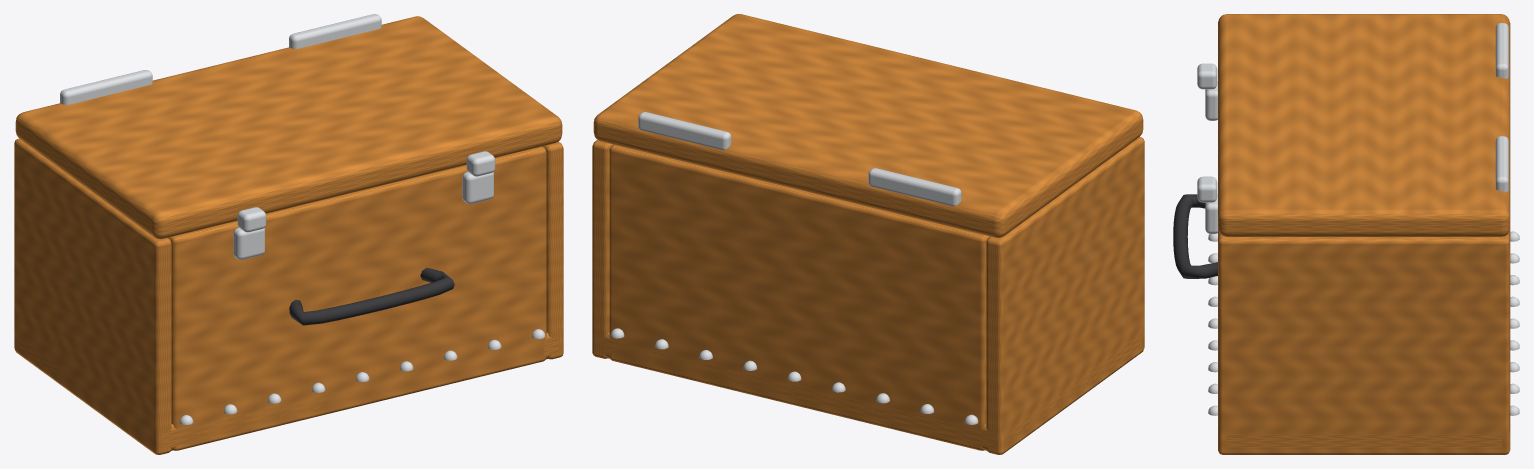
The picture shows the model from 3 angles, left to right: view 1: azimuth 30°, elevation 25°; view 2: azimuth 150°, elevation 25°; view 3: azimuth 270°, elevation 25°; orthographic projection.
Visible parts, largest first — view 1: ammo-crate, lid/cladOrange, lid/steel; view 2: ammo-crate, lid/cladOrange, lid/steel; view 3: ammo-crate, lid/cladOrange, lid/steel.
Boxes of the visible parts, x1,y1,x2,y2 form: ammo-crate: (14, 138, 563, 454); lid/cladOrange: (15, 16, 562, 239); lid/steel: (60, 14, 495, 232); ammo-crate: (592, 137, 1144, 454); lid/cladOrange: (593, 14, 1143, 237); lid/steel: (638, 112, 961, 206); ammo-crate: (1173, 81, 1519, 454); lid/cladOrange: (1218, 14, 1510, 236); lid/steel: (1197, 23, 1508, 202).
Size of the model in its own units: 0.72 by 0.425 by 0.5217.
6 materials, 3 textured.
